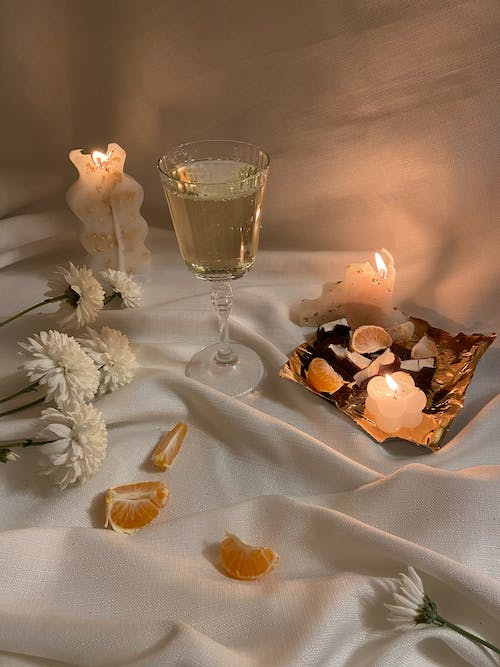alcohol: (155, 137, 270, 399)
